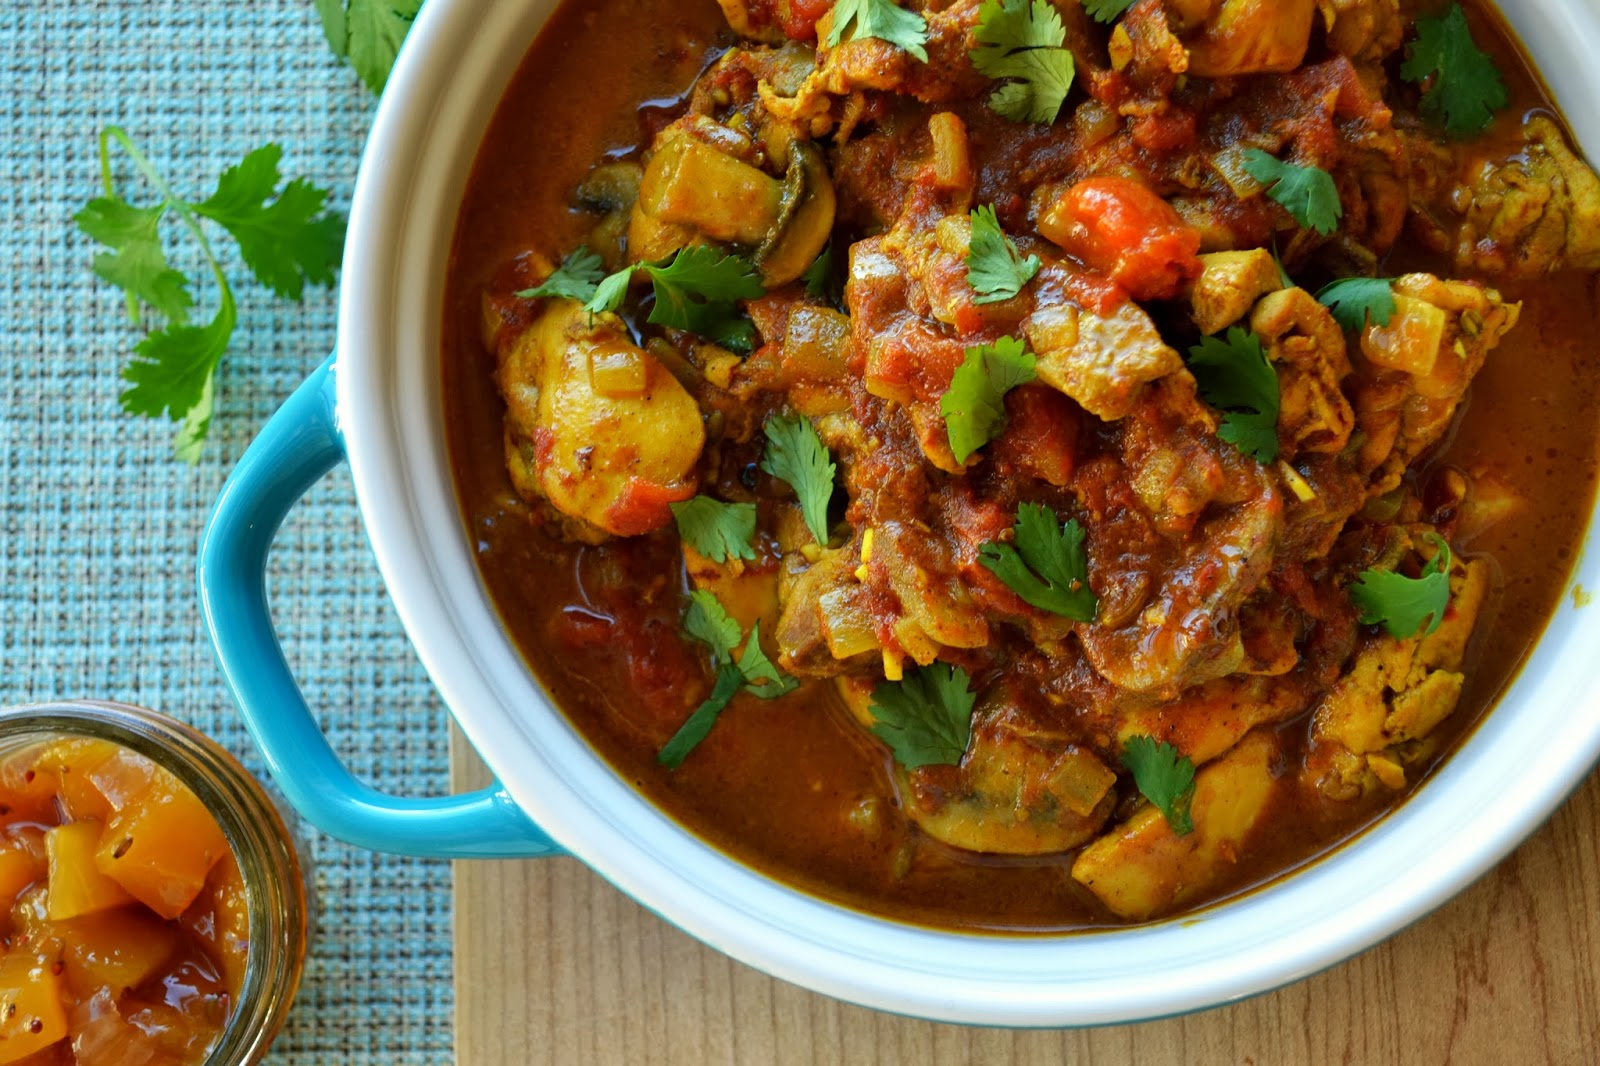chicken_curry: (552, 1, 1527, 844)
